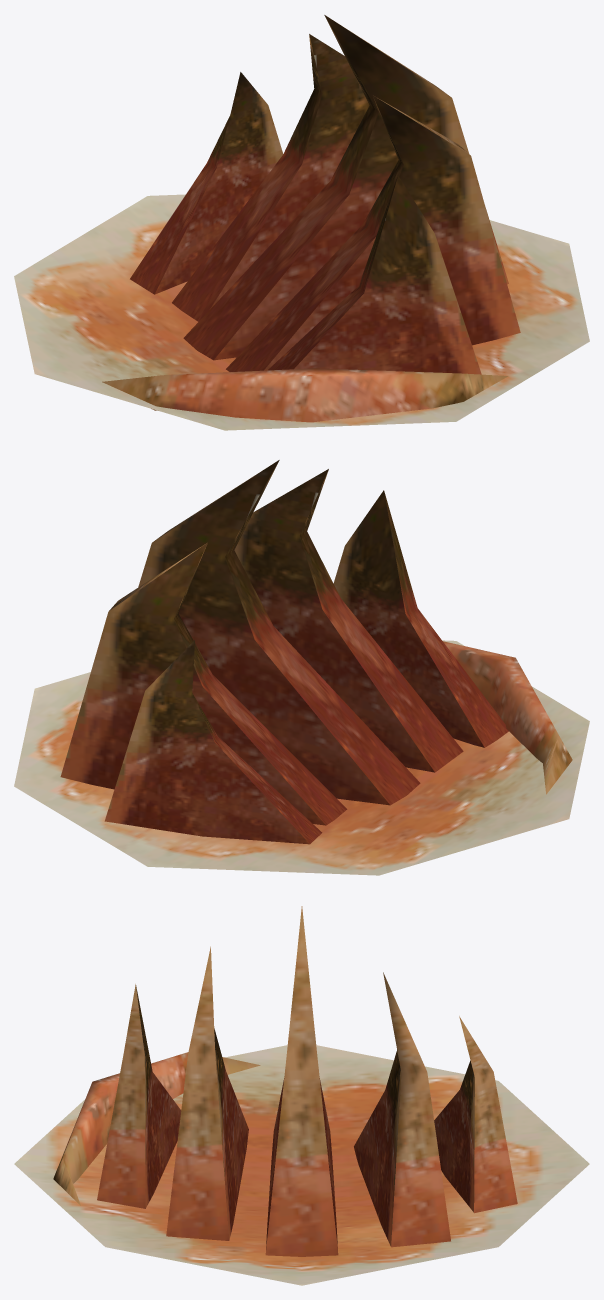
The model's file is edb_dish_bivoli_tempari_l1.fbx.
The picture shows the model from 3 angles, top to bottom: view 1: azimuth 30°, elevation 25°; view 2: azimuth 150°, elevation 25°; view 3: azimuth 270°, elevation 25°; orthographic projection. The views are drawn at different scales.
Parts seen in each view (by area): view 1: mesh_node; view 2: mesh_node; view 3: mesh_node.
Part boxes in pixels (left/top/right/bottom): mesh_node: left=14, top=15, right=589, bottom=430; mesh_node: left=14, top=460, right=589, bottom=875; mesh_node: left=14, top=906, right=589, bottom=1285.
Bounding box in the file's own units: 0.626 × 0.3689 × 0.626.
